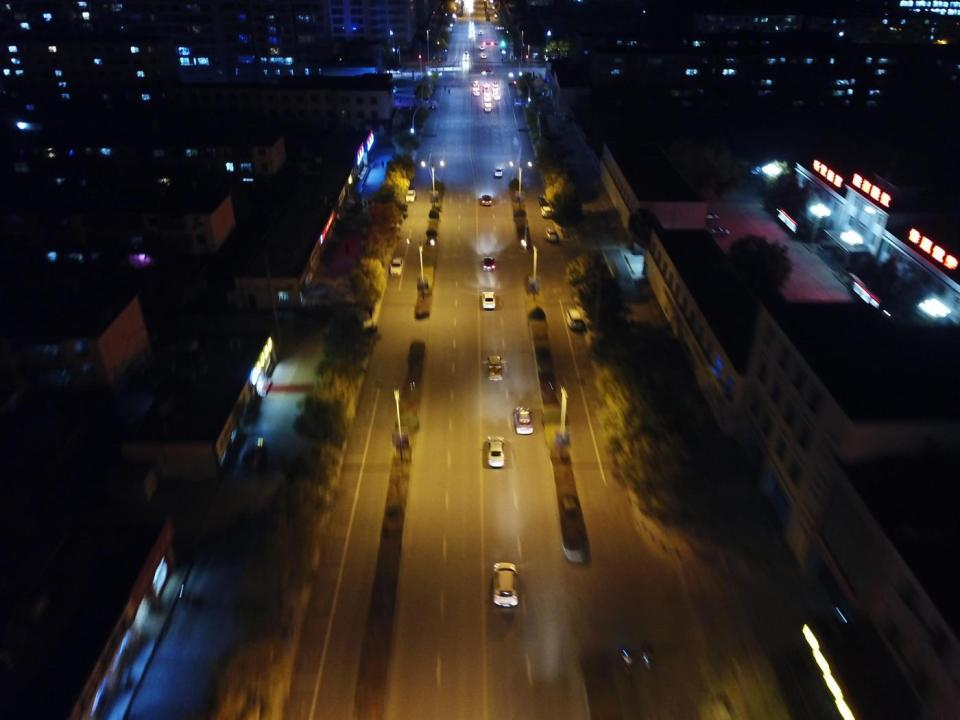car: (492, 562, 517, 606), (241, 438, 265, 470), (486, 436, 507, 468), (514, 407, 533, 434), (487, 354, 502, 380), (481, 289, 494, 310), (390, 256, 403, 276), (710, 227, 730, 237), (701, 210, 718, 221), (479, 193, 493, 206), (483, 257, 496, 270), (546, 227, 558, 241), (541, 205, 553, 219), (405, 189, 416, 202), (538, 194, 549, 205), (481, 70, 494, 76), (400, 106, 412, 112), (494, 168, 502, 176), (562, 115, 571, 122), (482, 82, 490, 88), (483, 86, 489, 92), (484, 95, 490, 101), (542, 90, 548, 96), (483, 91, 490, 96), (484, 107, 491, 112), (386, 70, 394, 74), (434, 72, 442, 76), (469, 20, 474, 26), (464, 50, 469, 56), (473, 81, 479, 86), (473, 86, 479, 91), (485, 101, 490, 107), (494, 13, 500, 18), (492, 81, 498, 86), (394, 70, 400, 74), (492, 87, 498, 91), (464, 57, 469, 61), (474, 92, 479, 96), (493, 92, 499, 95), (458, 16, 462, 20), (480, 46, 484, 50), (482, 54, 486, 58), (464, 62, 468, 66), (494, 96, 499, 99), (479, 30, 482, 34), (470, 30, 474, 33)
van: (565, 308, 583, 330)
